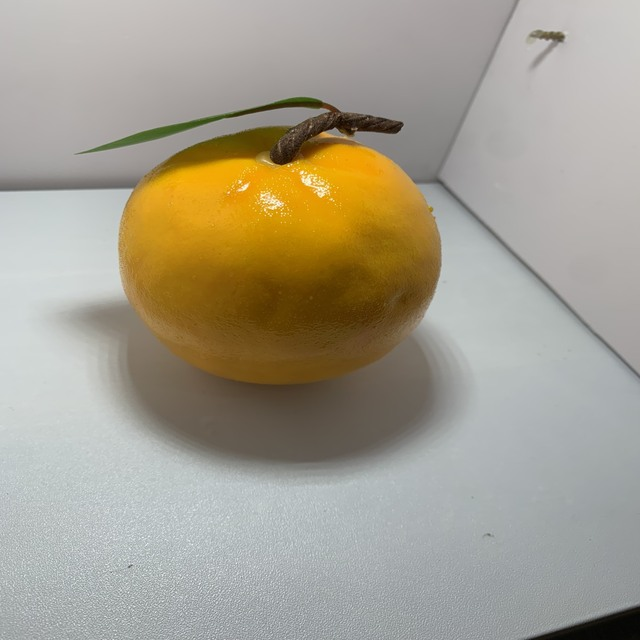Cam vang: (119, 89, 442, 391)
